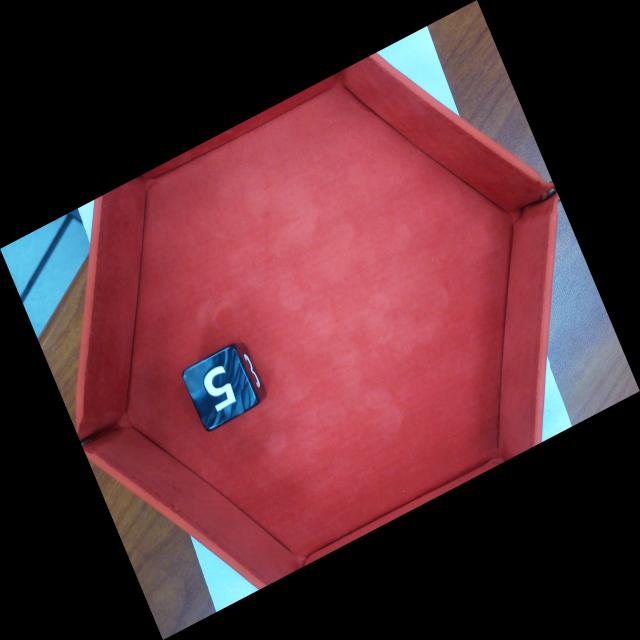dice: (186, 342, 266, 431)
